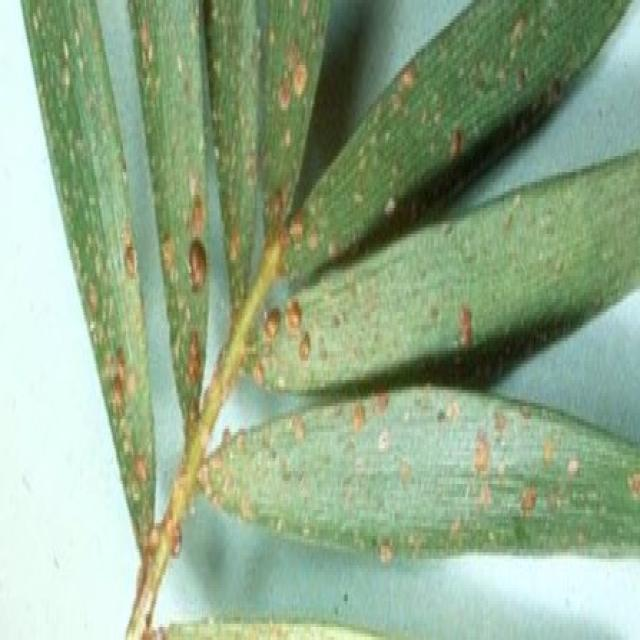BlackScale: (56, 152, 152, 546), (128, 0, 210, 435), (280, 55, 432, 289), (264, 0, 330, 256), (204, 0, 260, 289), (126, 455, 183, 637), (239, 297, 321, 390)
